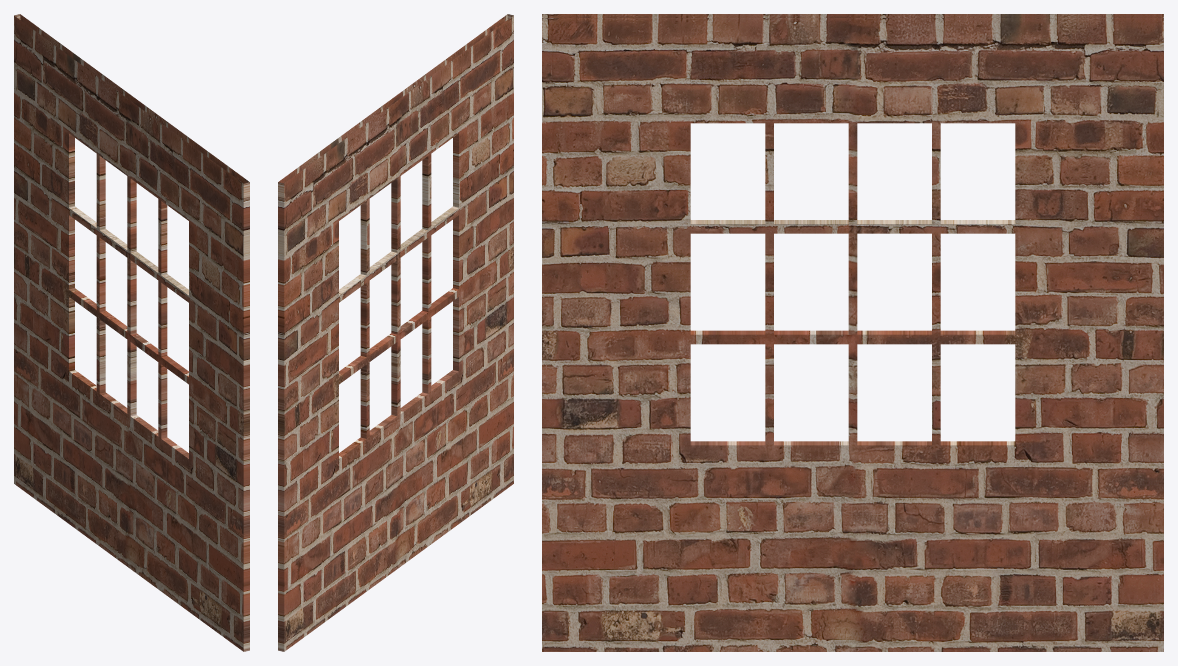
Rendered from brickwall.obj.
The picture shows the model from 3 angles, left to right: view 1: azimuth 30°, elevation 25°; view 2: azimuth 150°, elevation 25°; view 3: azimuth 270°, elevation 25°; orthographic projection. The views are drawn at different scales.
Parts seen in each view (by area): view 1: BrickWall_brickwall; view 2: BrickWall_brickwall; view 3: BrickWall_brickwall.
Part boxes in pixels (box(x1,y1,x2,y2)): BrickWall_brickwall: box(14, 14, 249, 651); BrickWall_brickwall: box(278, 14, 513, 651); BrickWall_brickwall: box(542, 14, 1163, 651).
Size of the model in its own units: 0.1225 by 9 by 8.
